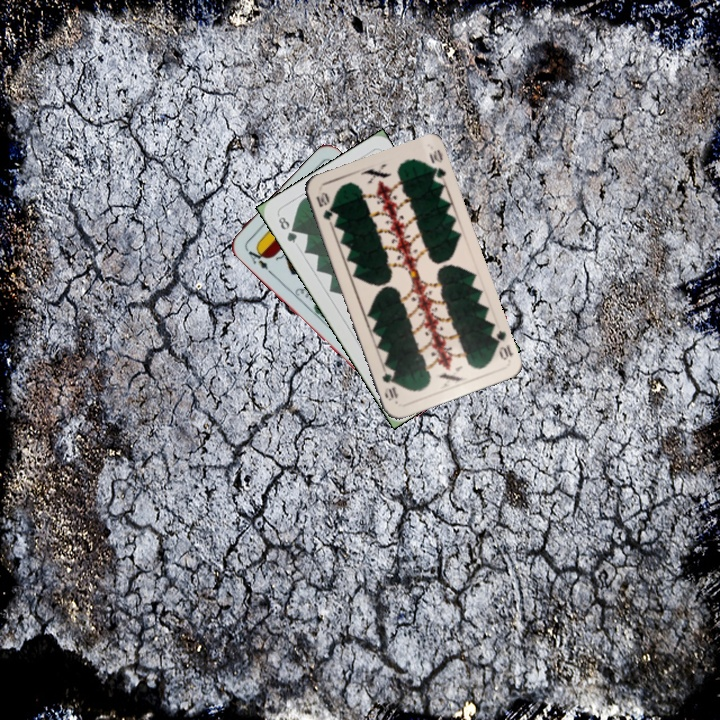EA: (241, 242, 274, 276)
G10: (312, 188, 339, 228), (487, 326, 515, 363)
G8: (274, 211, 300, 246)
